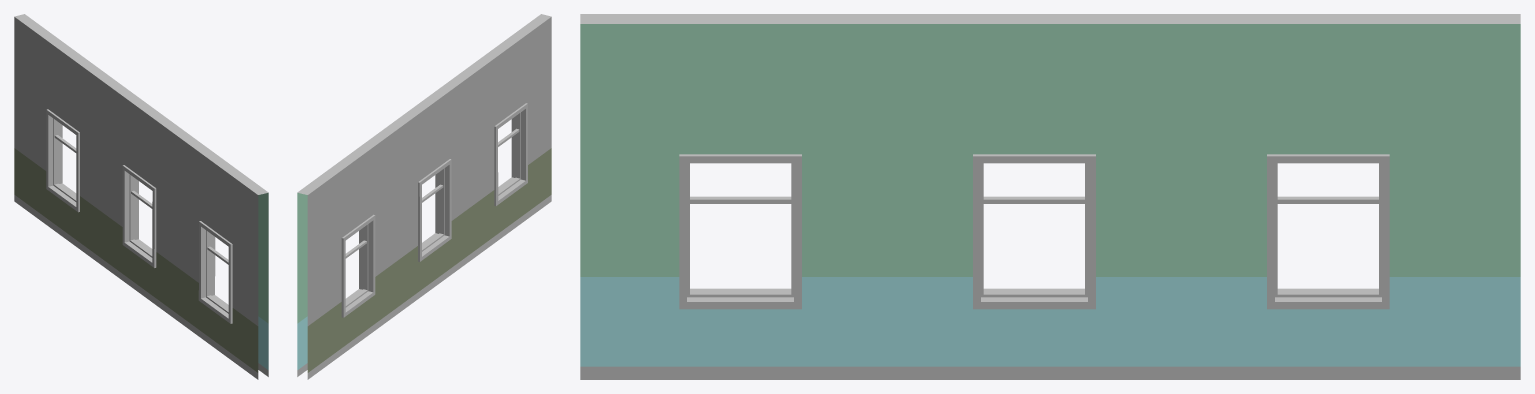
The model's file is SM_Wall_Window_A_800.fbx.
3 views of the same model, side by side, from view 1: azimuth 30°, elevation 25°; view 2: azimuth 150°, elevation 25°; view 3: azimuth 270°, elevation 25° (orthographic). The views are drawn at different scales.
Parts seen in each view (by area): view 1: SM_Wall_Window_A_800; view 2: SM_Wall_Window_A_800; view 3: SM_Wall_Window_A_800.
Boxes of the visible parts, left/top/right/bottom form: SM_Wall_Window_A_800: left=14, top=14, right=268, bottom=379; SM_Wall_Window_A_800: left=297, top=14, right=551, bottom=379; SM_Wall_Window_A_800: left=580, top=14, right=1520, bottom=379.
Size of the model in its own units: 27.27 by 334 by 800.
